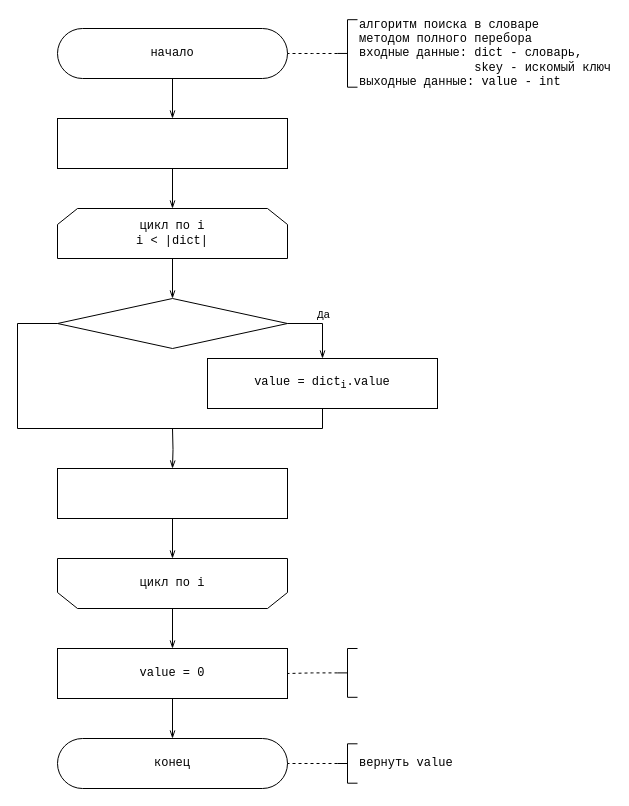
Image size: 629x806. Some labels were removed from this diagram. Here are the shapes that lost their labels. From the top down, the centre of each, then its label:
point 172,143: i := 0
point 172,323: dict i .key = skey?
point 172,493: i + 1
point 347,672: значение 0 в value сигнализирует о том, что ключ не был найден
